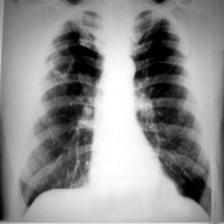tuberculosis: (10, 3, 218, 224)
